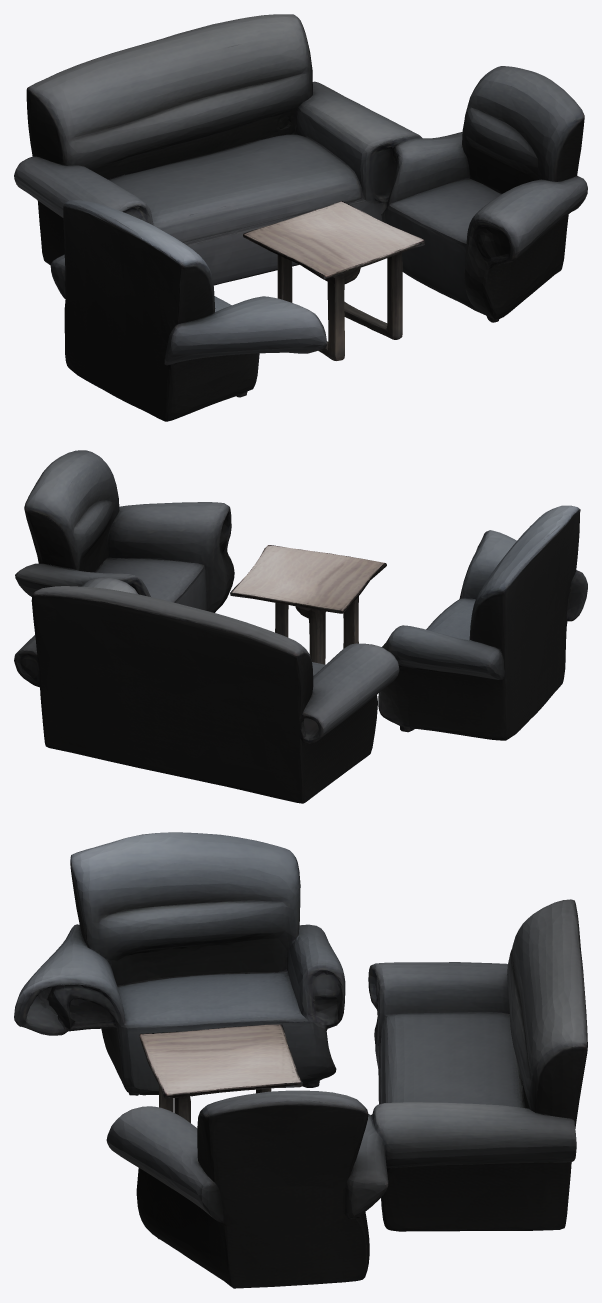
The model's file is sofa_4pc_africo_brown.glb.
3 views of the same model, one above another, from view 1: azimuth 30°, elevation 25°; view 2: azimuth 150°, elevation 25°; view 3: azimuth 270°, elevation 25° (orthographic). The views are drawn at different scales.
Parts seen in each view (by area): view 1: world; view 2: world; view 3: world.
Part boxes in pixels (left/top/right/bottom): world: left=14, top=14, right=587, bottom=421; world: left=14, top=450, right=587, bottom=803; world: left=14, top=832, right=587, bottom=1288.
Size of the model in its own units: 0.9989 by 0.3673 by 0.9166.
1 material, 1 textured.
